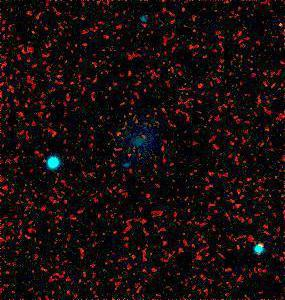star: (97, 117, 127, 147)
